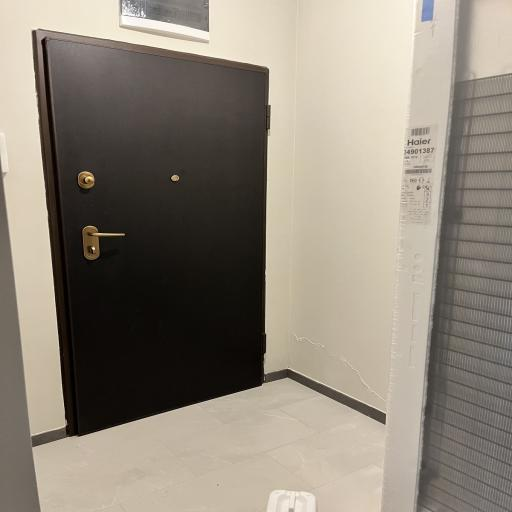child: (34, 31, 270, 435)
